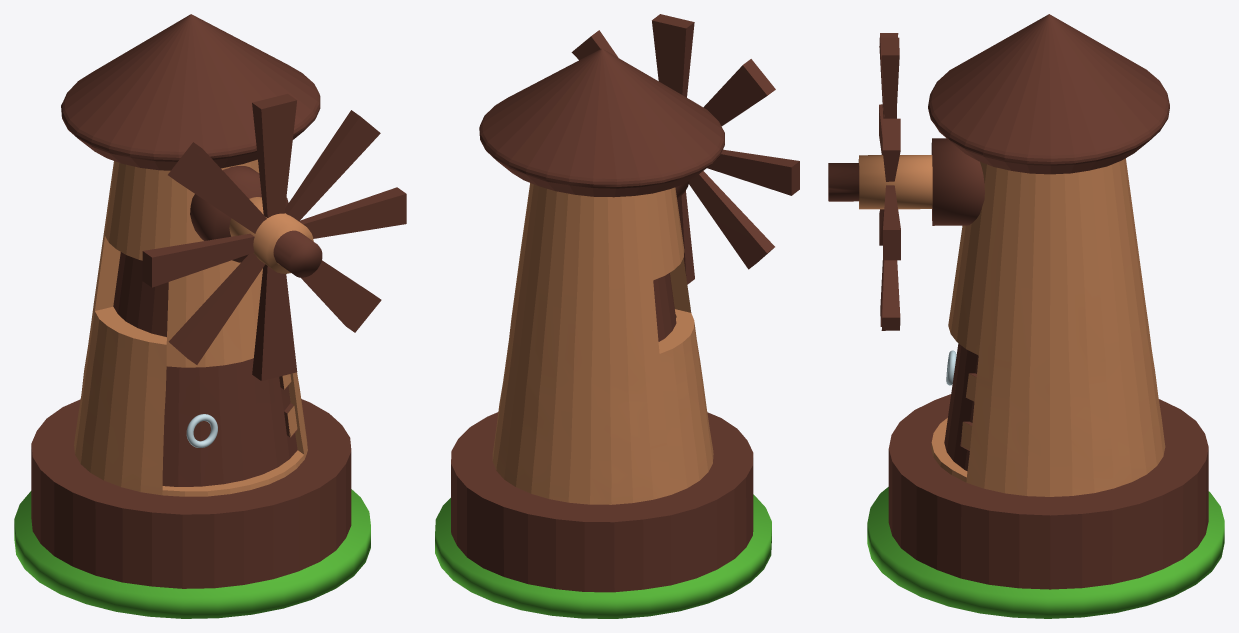
File: Windmill House.glb
The picture shows the model from 3 angles, left to right: view 1: azimuth 30°, elevation 25°; view 2: azimuth 150°, elevation 25°; view 3: azimuth 270°, elevation 25°; orthographic projection. The views are drawn at different scales.
Visible parts, largest first — view 1: Cylinder123, Cylinder123_3, Cylinder123_2, Cylinder123_1; view 2: Cylinder123, Cylinder123_3, Cylinder123_2; view 3: Cylinder123, Cylinder123_3, Cylinder123_2.
Part boxes in pixels (x1,y1,x2,y2): Cylinder123: (31,14,406,588); Cylinder123_3: (74,159,313,496); Cylinder123_2: (14,489,370,618); Cylinder123_1: (186,414,217,447); Cylinder123: (451,14,799,592); Cylinder123_3: (492,183,713,504); Cylinder123_2: (435,494,771,618); Cylinder123: (828,14,1208,589); Cylinder123_3: (858,155,1165,496); Cylinder123_2: (867,487,1224,618).
Bounding box in the file's own units: 0.6114 × 1 × 0.6783.
